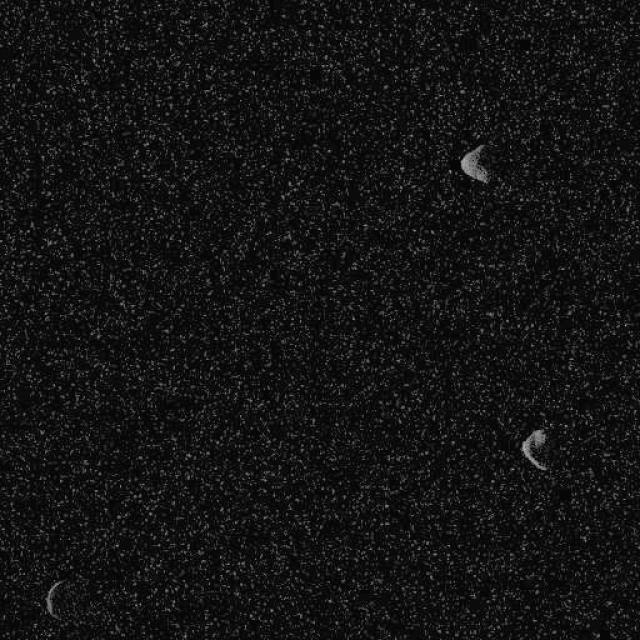D2: (459, 141, 491, 184), (520, 428, 549, 472), (44, 579, 64, 620)
